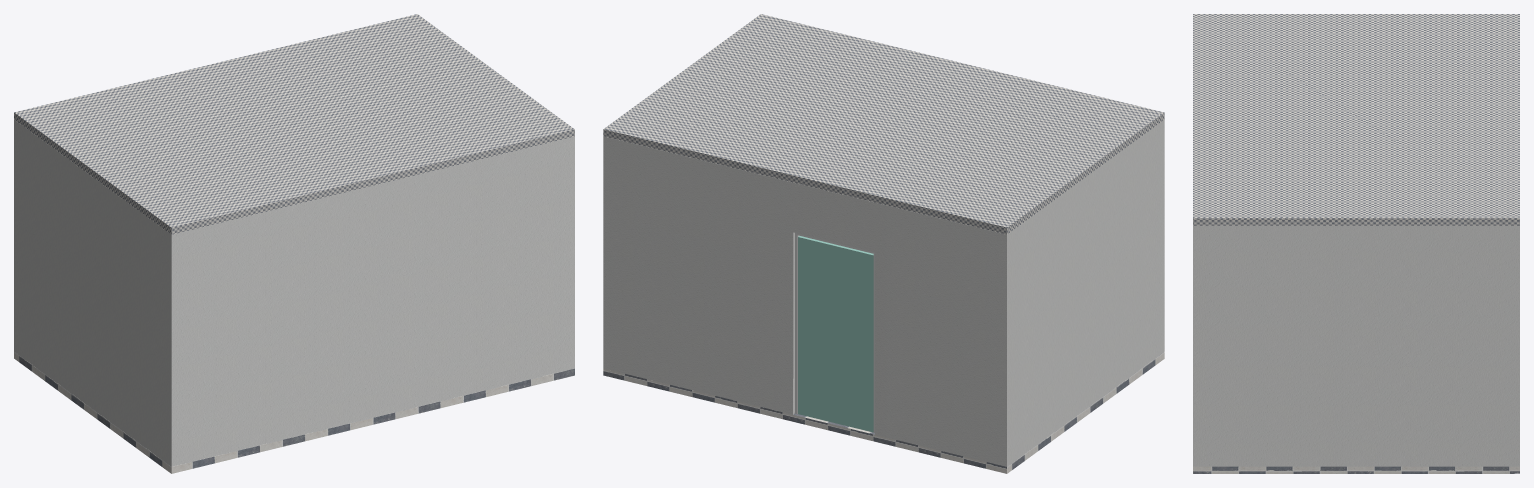
The model's file is FloorPlan408_physics.fbx.
3 renders of one model, left to right at view 1: azimuth 30°, elevation 25°; view 2: azimuth 150°, elevation 25°; view 3: azimuth 270°, elevation 25°, orthographic. The views are drawn at different scales.
Visible parts, largest first — view 1: FP408:Walls, FP408:Ceiling, FP408:Floor; view 2: FP408:Walls, FP408:Ceiling, FP408:polySurface171, FP408:Floor, FP408:polySurface169; view 3: FP408:Walls, FP408:Ceiling, FP408:Floor.
Boxes of the visible parts, <box> form: FP408:Walls: <box>14,119,574,466</box>; FP408:Ceiling: <box>14,14,574,234</box>; FP408:Floor: <box>14,352,574,473</box>; FP408:Walls: <box>603,119,1164,466</box>; FP408:Ceiling: <box>603,14,1164,234</box>; FP408:polySurface171: <box>798,236,873,432</box>; FP408:Floor: <box>603,352,1164,473</box>; FP408:polySurface169: <box>794,233,874,432</box>; FP408:Walls: <box>1193,225,1519,466</box>; FP408:Ceiling: <box>1193,14,1519,225</box>; FP408:Floor: <box>1193,466,1519,473</box>.
Size of the model in its own units: 424 by 247 by 287.
